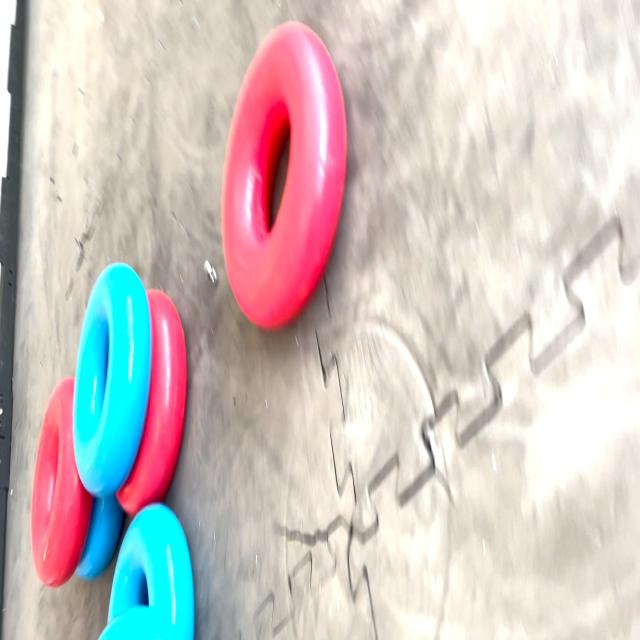Blue-Ring: (74, 262, 151, 498), (109, 504, 194, 637), (76, 493, 124, 580)
Red-Ring: (221, 22, 346, 329), (116, 289, 188, 516), (31, 378, 92, 587)
